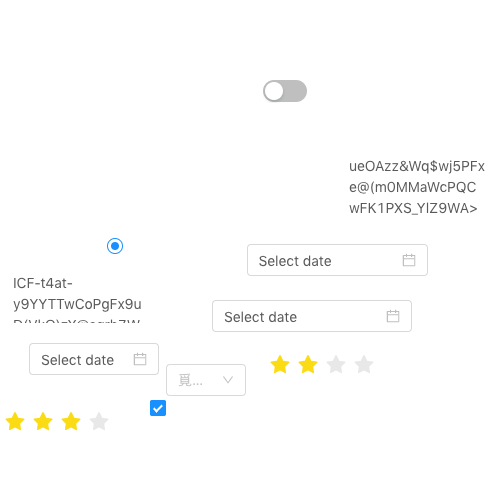Checkbox: (150, 397, 166, 418)
DatePicker: (212, 300, 412, 332), (247, 244, 428, 276), (29, 343, 159, 375)
Radio: (107, 235, 123, 255)
Rate: (270, 348, 390, 380), (5, 405, 125, 437)
Select: (166, 364, 246, 396)
Switch: (263, 79, 307, 103)
Text: (349, 155, 485, 215), (13, 272, 149, 323)
